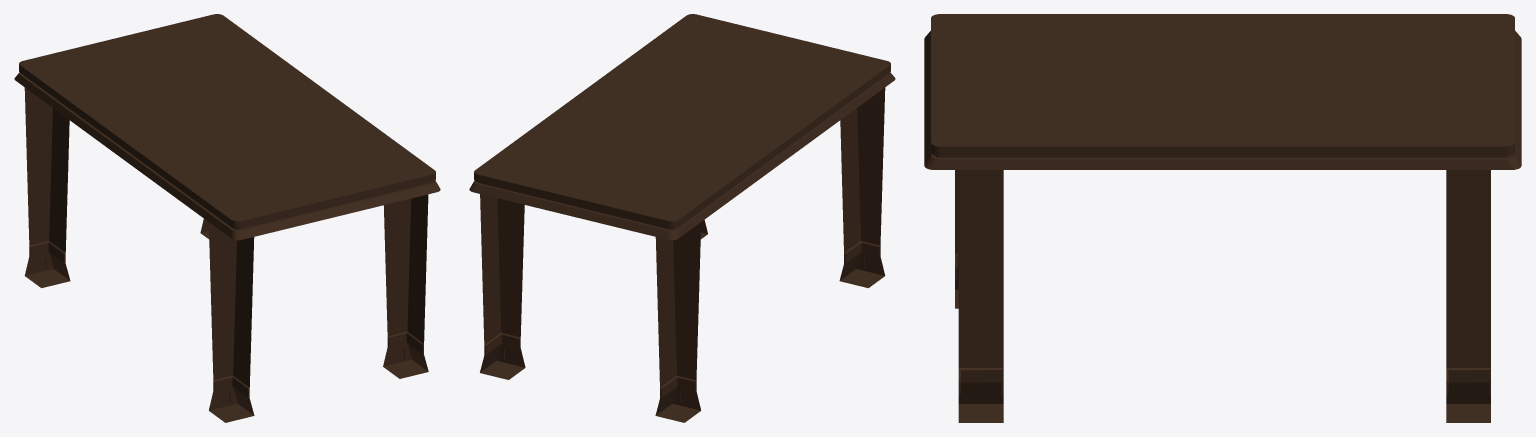
Rendered from bureau.glb.
3 views of the same model, side by side, from view 1: azimuth 30°, elevation 25°; view 2: azimuth 150°, elevation 25°; view 3: azimuth 270°, elevation 25° (orthographic). The views are drawn at different scales.
Parts seen in each view (by area): view 1: model; view 2: model; view 3: model.
Boxes of the visible parts, left/top/right/bottom form: model: left=14, top=14, right=440, bottom=422; model: left=469, top=14, right=895, bottom=422; model: left=924, top=14, right=1521, bottom=422.
Bounding box in the file's own units: 6.65 × 6.32 × 12.39.
